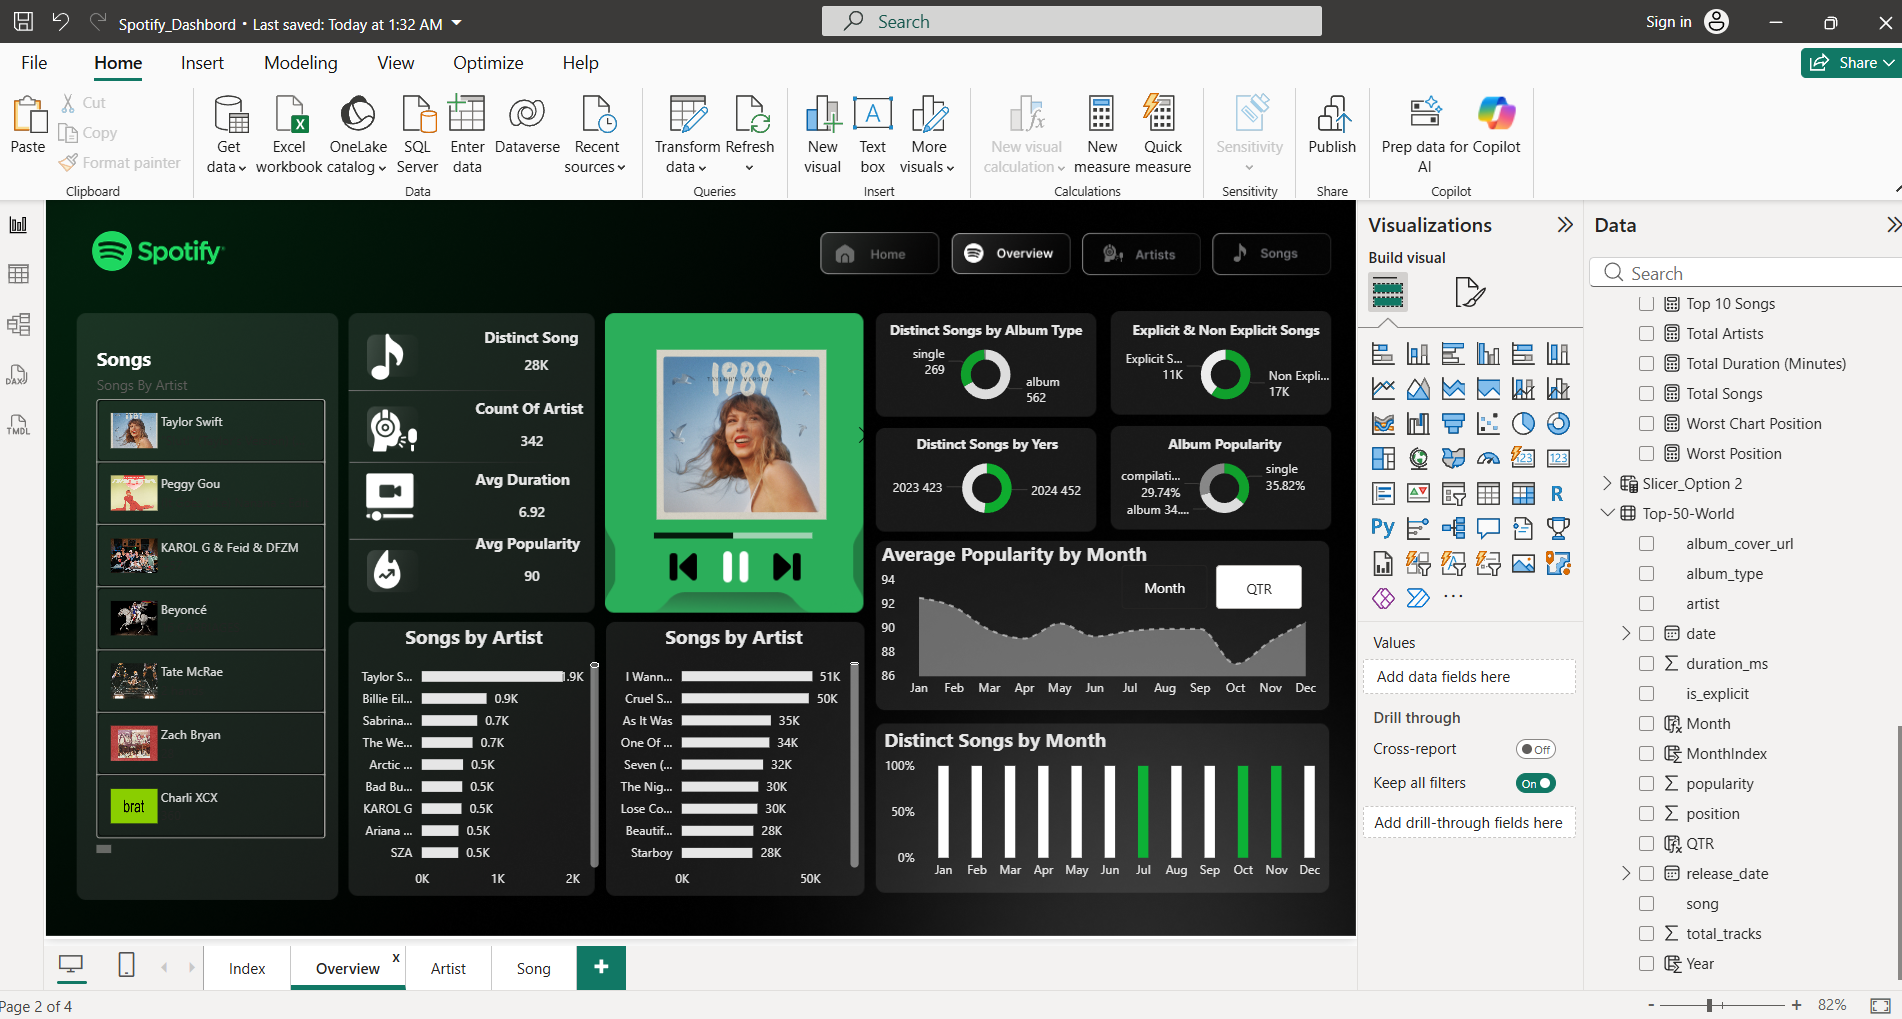

The dashboard page shown, as its layout file describes it:
{"tool":"powerbi","page":{"name":"Overview","canvas":[1280,720],"ordinal":1},"visuals":[{"type":"clusteredBarChart","title":"Songs by Artist","fields":{"Y":["_Measures.Total Songs"],"Category":["Top-50-World.artist"]},"box":[292.4,413,253.4,266.8],"z":0},{"type":"clusteredBarChart","title":"Songs by Artist","fields":{"Category":["Top-50-World.song"],"Y":["Sum(Top-50-World.popularity)"]},"box":[545.8,413,253.4,266.8],"z":1000},{"type":"areaChart","fields":{"Y":["_Measures.Average Popularity"],"Category":["Top-50-World.Month"]},"box":[811.4,331.4,437.4,162],"z":2000},{"type":"advancedSlicerVisual","fields":{"Values":["Slicer_Option 2.Slicer_Option"]},"box":[1045.4,350.9,186.4,53.6],"z":3000},{"type":"donutChart","title":"Distinct Songs by Album Type","fields":{"Category":["Top-50-World.album_type"],"Y":["_Measures.Distinct Songs"]},"box":[811.4,117,213.2,88.9],"z":4000},{"type":"donutChart","title":"Explicit & Non Explicit Songs","fields":{"Y":["_Measures.Non Explicit Songs","_Measures.Explicit Songs"]},"box":[1045.4,117,213.2,88.9],"z":5000},{"type":"donutChart","title":"Distinct Songs by Yers","fields":{"Y":["_Measures.Distinct Songs"],"Category":["Top-50-World.Year"]},"box":[812.6,227.8,213.2,88.9],"z":6000},{"type":"donutChart","title":"Album Popularity","fields":{"Category":["Top-50-World.album_type"],"Y":["_Measures.Average Popularity"]},"box":[1044.1,227.8,213.2,88.9],"z":7000},{"type":"hundredPercentStackedColumnChart","fields":{"Category":["Top-50-World.Month"],"Y":["_Measures.Distinct Songs"]},"box":[813.9,512.9,443.5,158.4],"z":8000},{"type":"card","title":"Distinct Song","fields":{"Values":["_Measures.Total Songs"]},"box":[424,123.1,112.1,59.7],"z":9000},{"type":"card","title":"Count Of Artist","fields":{"Values":["_Measures.Total Artists"]},"box":[415.5,192.5,120.6,69.4],"z":10000},{"type":"card","title":"Avg Popularity","fields":{"Values":["_Measures.Average Popularity"]},"box":[415.5,324.1,120.6,69.4],"z":11000},{"type":"card","title":"Avg Duration","fields":{"Values":["_Measures.Duration Range (Minutes)"]},"box":[415.5,261.9,120.6,69.4],"z":12000},{"type":"image","box":[310.7,130.4,47.5,45.1],"z":13000},{"type":"image","box":[310.7,202.2,60.9,45.1],"z":14000},{"type":"image","box":[316.8,341.1,47.5,37.8],"z":15000},{"type":"image","box":[309.5,261.9,54.8,54.8],"z":16000},{"type":"advancedSlicerVisual","title":"Songs","fields":{"Values":["Top-50-World.song"]},"box":[46.3,141.3,233.9,503.2],"z":17000},{"type":"advancedSlicerVisual","title":"Songs","fields":{"Values":["Top-50-World.song"]},"box":[545.8,126.7,268,204.7],"z":18000},{"type":"hundredPercentStackedBarChart","fields":{"Y":["_Measures.Average Popularity","Avg(Top-50-World.popularity)"]},"box":[589.7,288.8,164.5,70.7],"z":19000},{"type":"image","box":[704.7,342.8,40,30],"z":20000},{"type":"image","box":[603.6,342.8,40,30],"z":21000},{"type":"image","box":[654.1,342.8,40,30],"z":22000},{"type":"shape","box":[569,117,230.3,287.5],"z":23000},{"type":"actionButton","box":[756.8,31.7,115.7,40.2],"z":24000},{"type":"actionButton","box":[883.6,31.7,115.7,40.2],"z":25000},{"type":"actionButton","box":[1011.5,31.7,115.7,40.2],"z":26000},{"type":"actionButton","box":[1138.2,31.7,115.7,40.2],"z":27000}]}

Visuals, with their boxes on the page's 1280x720 design canvas (x1, y1, x2, y2). These are canvas units, not pixel positions in the 1902x1019 screenshot, which may show the page scaled, cropped or inside an application window:
"Songs by Artist" clusteredBarChart: {"left": 292, "top": 413, "right": 546, "bottom": 680}
"Songs by Artist" clusteredBarChart: {"left": 546, "top": 413, "right": 799, "bottom": 680}
areaChart - _Measures.Average Popularity x Top-50-World.Month: {"left": 811, "top": 331, "right": 1249, "bottom": 493}
advancedSlicerVisual - Slicer_Option 2.Slicer_Option: {"left": 1045, "top": 351, "right": 1232, "bottom": 404}
"Distinct Songs by Album Type" donutChart: {"left": 811, "top": 117, "right": 1025, "bottom": 206}
"Explicit & Non Explicit Songs" donutChart: {"left": 1045, "top": 117, "right": 1259, "bottom": 206}
"Distinct Songs by Yers" donutChart: {"left": 813, "top": 228, "right": 1026, "bottom": 317}
"Album Popularity" donutChart: {"left": 1044, "top": 228, "right": 1257, "bottom": 317}
hundredPercentStackedColumnChart - Top-50-World.Month x _Measures.Distinct Songs: {"left": 814, "top": 513, "right": 1257, "bottom": 671}
"Distinct Song" card: {"left": 424, "top": 123, "right": 536, "bottom": 183}
"Count Of Artist" card: {"left": 416, "top": 192, "right": 536, "bottom": 262}
"Avg Popularity" card: {"left": 416, "top": 324, "right": 536, "bottom": 394}
"Avg Duration" card: {"left": 416, "top": 262, "right": 536, "bottom": 331}
image: {"left": 311, "top": 130, "right": 358, "bottom": 176}
image: {"left": 311, "top": 202, "right": 372, "bottom": 247}
image: {"left": 317, "top": 341, "right": 364, "bottom": 379}
image: {"left": 310, "top": 262, "right": 364, "bottom": 317}
"Songs" advancedSlicerVisual: {"left": 46, "top": 141, "right": 280, "bottom": 644}
"Songs" advancedSlicerVisual: {"left": 546, "top": 127, "right": 814, "bottom": 331}
hundredPercentStackedBarChart - _Measures.Average Popularity x Avg(Top-50-World.popularity): {"left": 590, "top": 289, "right": 754, "bottom": 360}
image: {"left": 705, "top": 343, "right": 745, "bottom": 373}
image: {"left": 604, "top": 343, "right": 644, "bottom": 373}
image: {"left": 654, "top": 343, "right": 694, "bottom": 373}
shape: {"left": 569, "top": 117, "right": 799, "bottom": 404}
actionButton: {"left": 757, "top": 32, "right": 872, "bottom": 72}
actionButton: {"left": 884, "top": 32, "right": 999, "bottom": 72}
actionButton: {"left": 1012, "top": 32, "right": 1127, "bottom": 72}
actionButton: {"left": 1138, "top": 32, "right": 1254, "bottom": 72}
